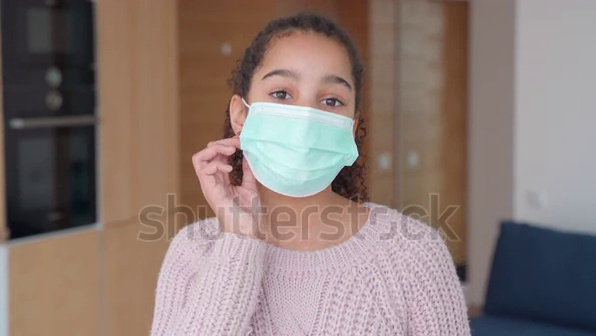Mask: (230, 99, 364, 200)
